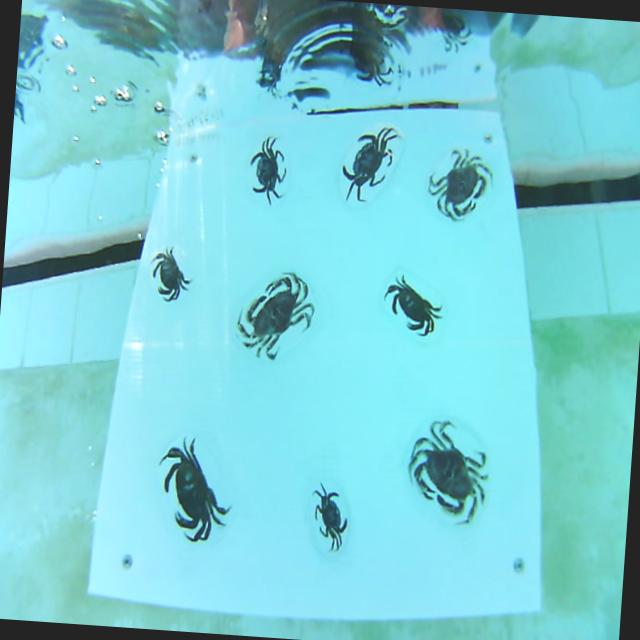green_crab: (342, 127, 397, 200), (250, 136, 286, 204), (313, 483, 347, 550)
jonah_crab: (408, 420, 487, 523), (237, 272, 314, 359), (428, 149, 492, 220)
rock_crab: (159, 438, 230, 541), (383, 275, 441, 336), (151, 247, 191, 301)
